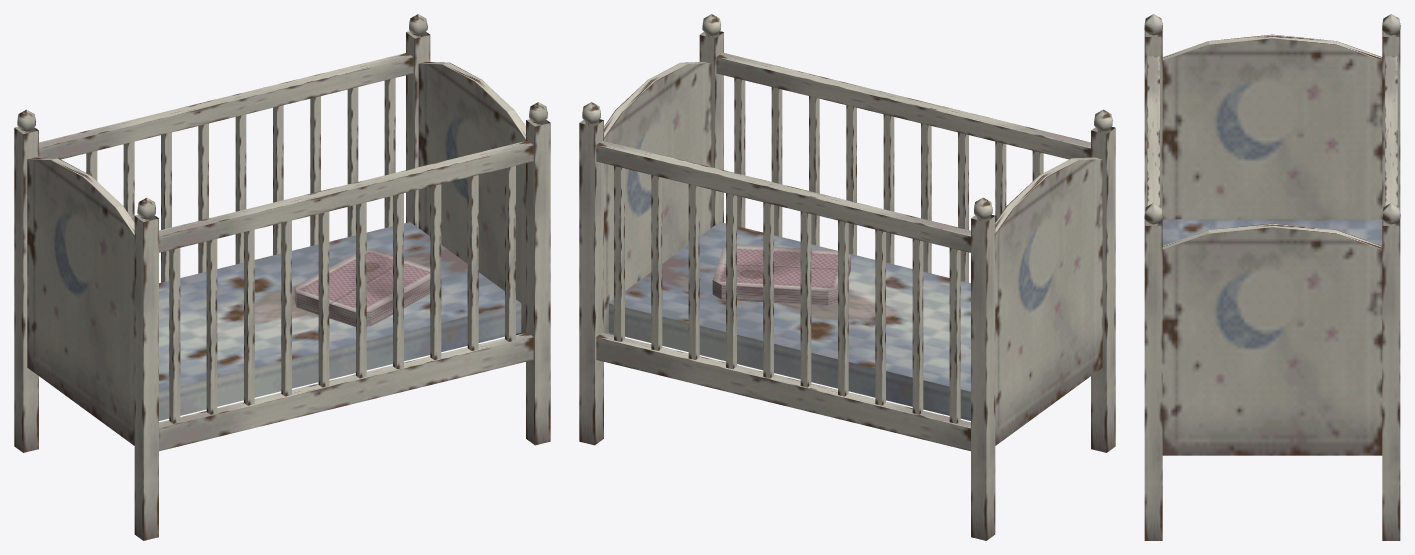
File: crib_old.obj
3 views of the same model, side by side, from view 1: azimuth 30°, elevation 25°; view 2: azimuth 150°, elevation 25°; view 3: azimuth 270°, elevation 25° (orthographic).
Parts seen in each view (by area): view 1: crib_old; view 2: crib_old; view 3: crib_old.
Part boxes in pixels (x1=…): crib_old: x1=14, y1=14, x2=550, y2=540; crib_old: x1=579, y1=14, x2=1115, y2=540; crib_old: x1=1144, y1=14, x2=1400, y2=540.
Bounding box in the file's own units: 1.32 × 1.04 × 0.722.
Materials: 1 (1 with a texture image).
